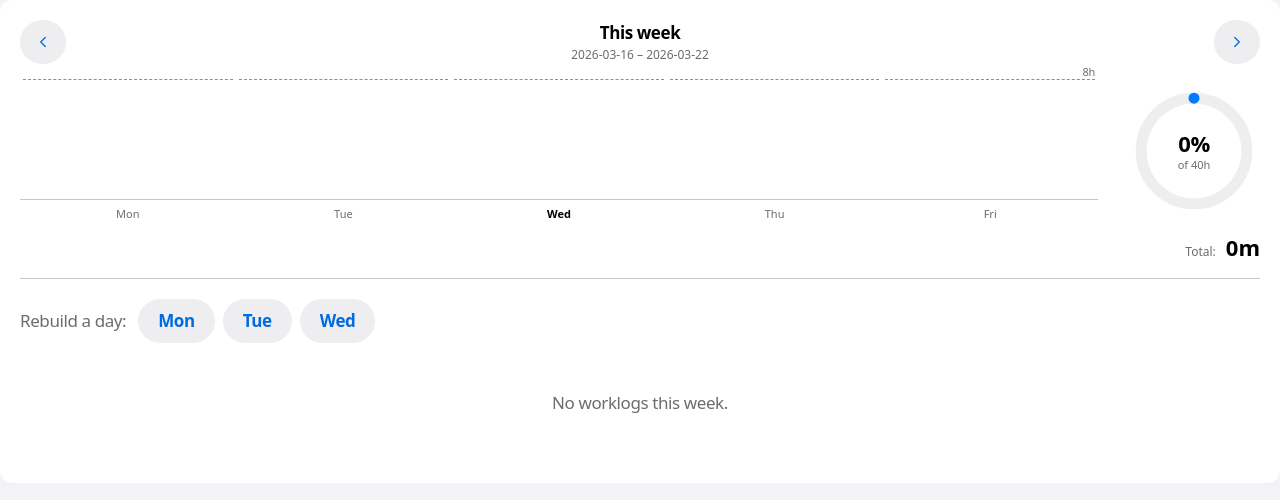
moving between weeks › steps back a week and names it
Click the button named "Previous week": click(43, 42) [20,20,66,64]
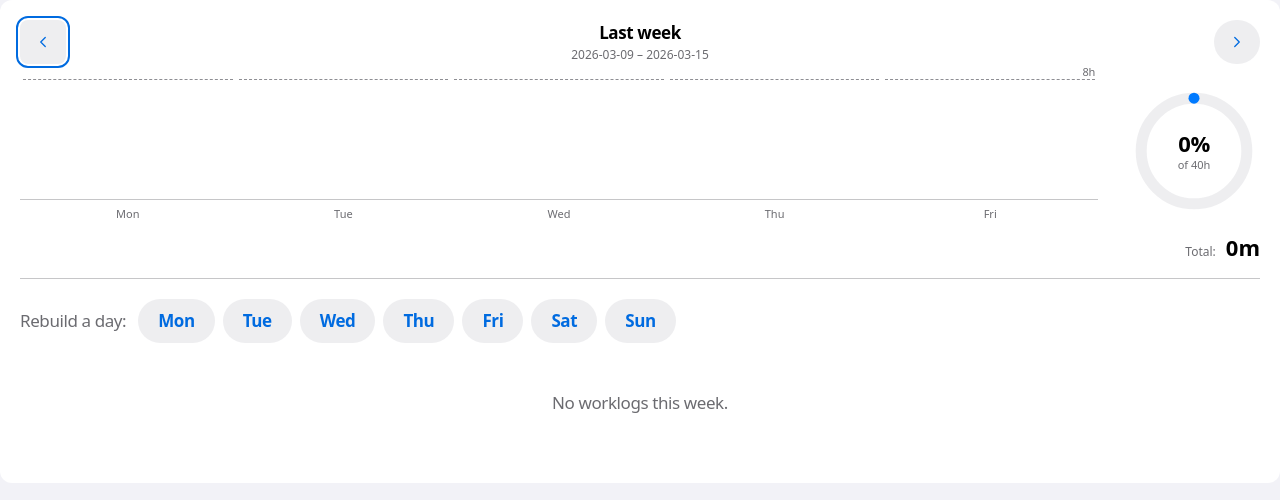
Result: the text "Last week" is shown at [599,22,681,44]
